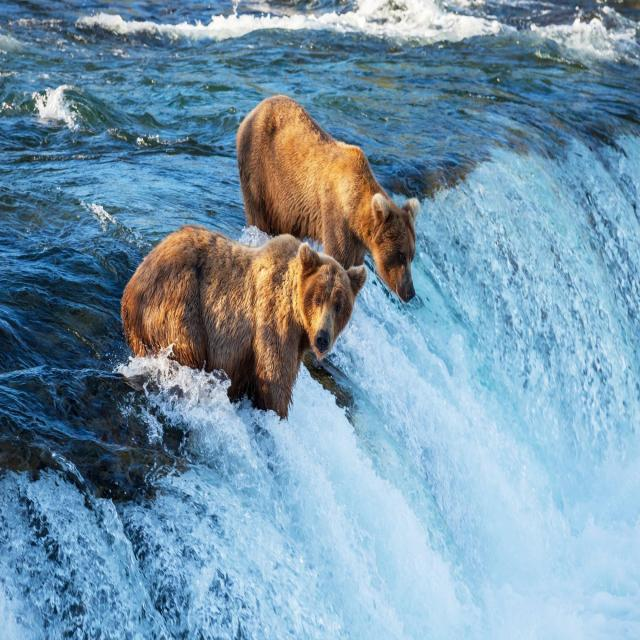Bear: (120, 105, 417, 422), (233, 96, 422, 306)
